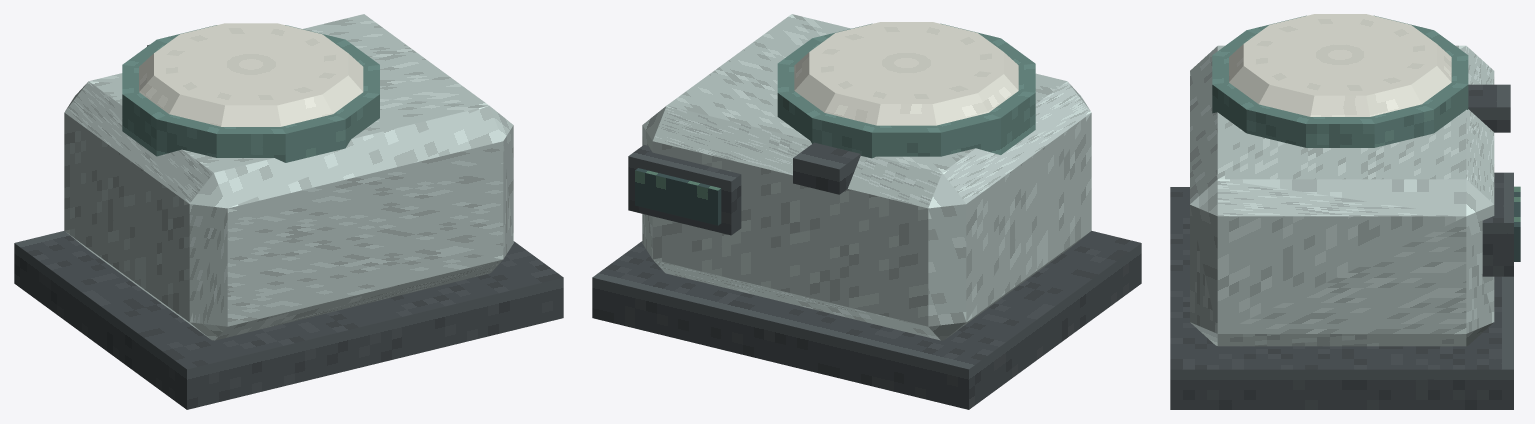
Rendered from f_centrifuge.glb.
3 views of the same model, side by side, from view 1: azimuth 30°, elevation 25°; view 2: azimuth 150°, elevation 25°; view 3: azimuth 270°, elevation 25° (orthographic).
Visible parts, largest first — view 1: block_centrifuge-body, block_laboratory-machine-base, block_locking-rotor-cover, block_rotor-cover-rim; view 2: block_centrifuge-body, block_laboratory-machine-base, block_locking-rotor-cover, block_rotor-cover-rim, block_automated-analyzer-bezel, block_automated-analyzer-display, block_cover-latch; view 3: block_centrifuge-body, block_laboratory-machine-base, block_locking-rotor-cover, block_rotor-cover-rim, block_automated-analyzer-bezel, block_cover-latch, block_automated-analyzer-display.
Part boxes in pixels (x1,y1,x2,y2): block_centrifuge-body: (64,14,513,340); block_laboratory-machine-base: (14,231,563,409); block_locking-rotor-cover: (139,23,363,126); block_rotor-cover-rim: (122,25,379,162); block_centrifuge-body: (642,14,1091,340); block_laboratory-machine-base: (592,231,1141,409); block_locking-rotor-cover: (794,22,1018,125); block_rotor-cover-rim: (777,23,1035,158); block_automated-analyzer-bezel: (628,145,741,235); block_automated-analyzer-display: (635,168,721,225); block_cover-latch: (793,142,860,194); block_centrifuge-body: (1190,45,1494,346); block_laboratory-machine-base: (1170,187,1513,409); block_locking-rotor-cover: (1229,14,1451,116); block_rotor-cover-rim: (1212,15,1468,147); block_automated-analyzer-bezel: (1482,172,1513,276); block_cover-latch: (1468,84,1510,132); block_automated-analyzer-display: (1514,186,1520,261).
Bounding box in the file's own units: 0.73 × 0.4565 × 0.5915.
1 material, 1 textured.
